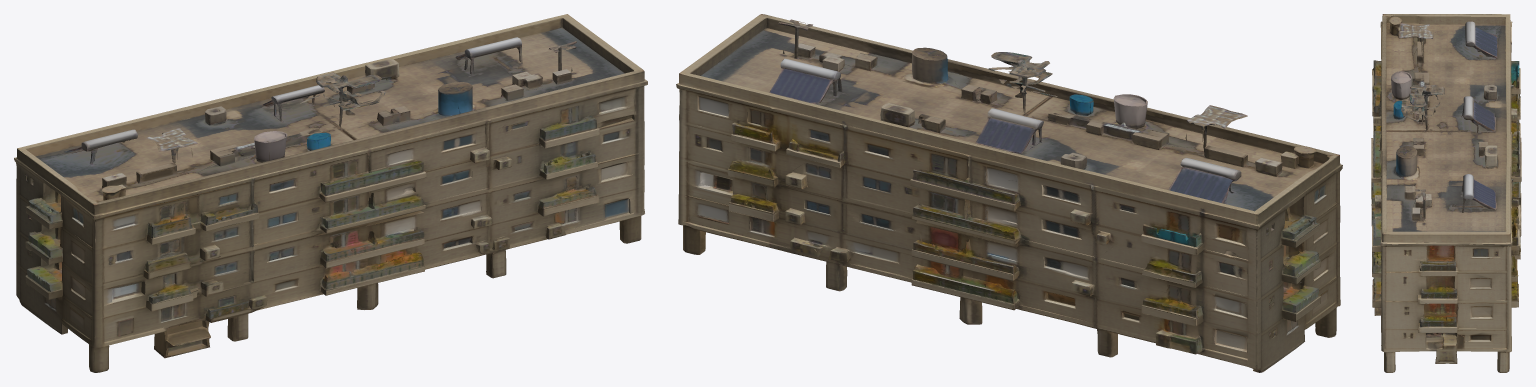
File: r3_shikun_pilotis.glb
3 renders of one model, left to right at view 1: azimuth 30°, elevation 25°; view 2: azimuth 150°, elevation 25°; view 3: azimuth 270°, elevation 25°, orthographic. The views are drawn at different scales.
Visible parts, largest first — view 1: geometry_0; view 2: geometry_0; view 3: geometry_0.
Boxes of the visible parts, x1,y1,x2,y2 form: geometry_0: (14, 14, 647, 372); geometry_0: (676, 14, 1342, 372); geometry_0: (1371, 14, 1521, 372).
Bounding box in the file's own units: 40 × 14 × 11.
Materials: 1 (1 with a texture image).
